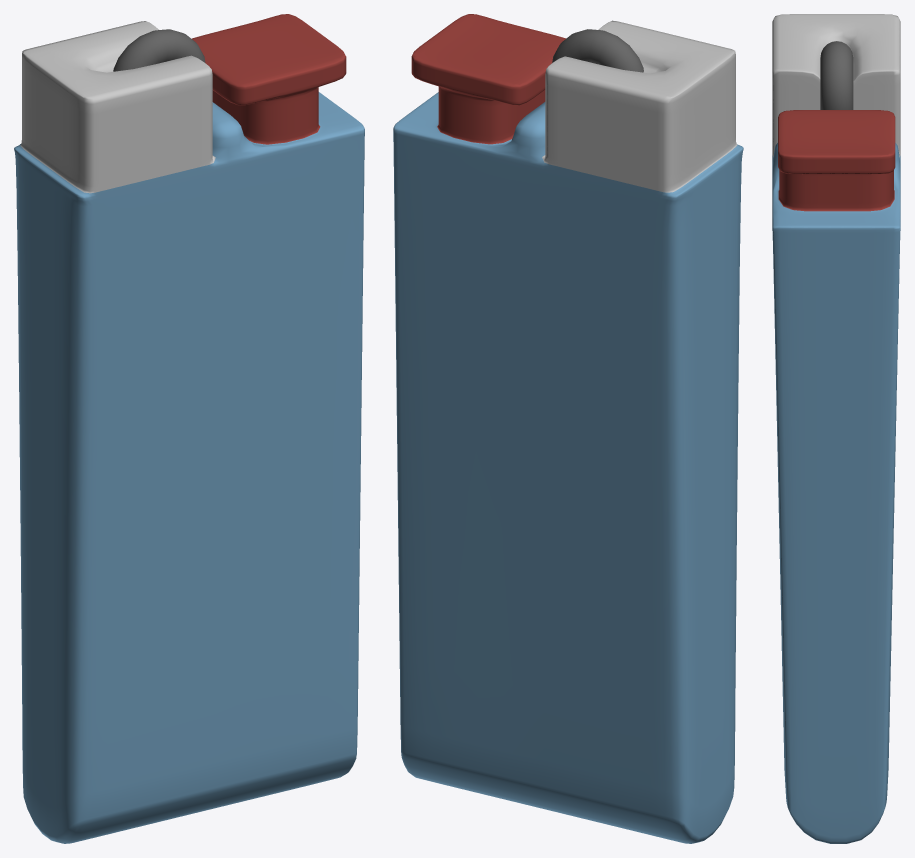
Rendered from Lighter.fbx.
The picture shows the model from 3 angles, left to right: view 1: azimuth 30°, elevation 25°; view 2: azimuth 150°, elevation 25°; view 3: azimuth 270°, elevation 25°; orthographic projection. The views are drawn at different scales.
Parts seen in each view (by area): view 1: pCube1; view 2: pCube1; view 3: pCube1.
Boxes of the visible parts, x1=… form: pCube1: x1=14, y1=14, x2=364, y2=843; pCube1: x1=393, y1=14, x2=743, y2=843; pCube1: x1=772, y1=14, x2=900, y2=843.
Bounding box in the file's own units: 1.57 × 4.08 × 0.6581.
